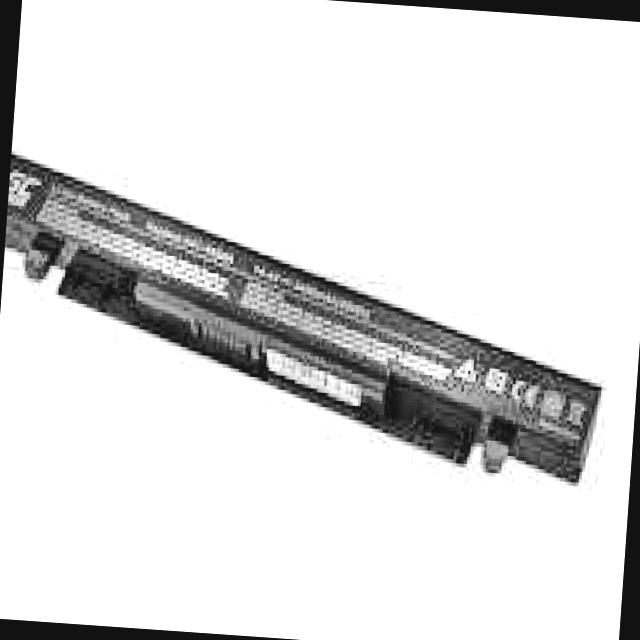Battery: (0, 140, 618, 516)
